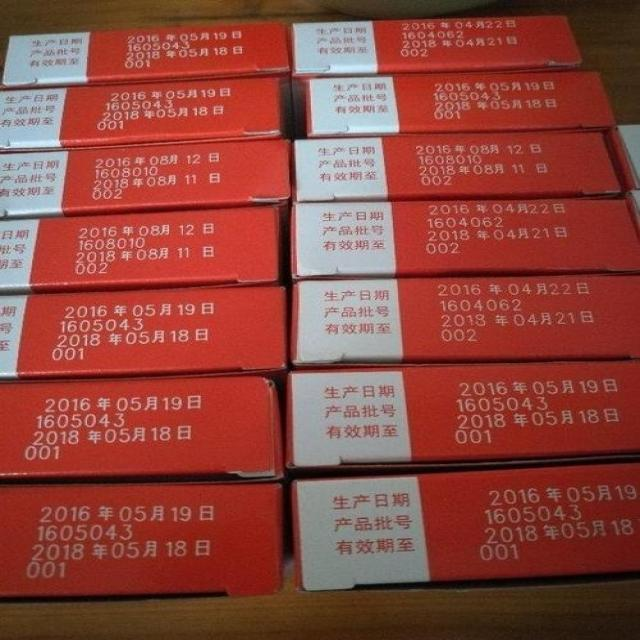box: (289, 462, 640, 592), (284, 359, 640, 469), (291, 13, 581, 137), (0, 484, 284, 605), (291, 272, 640, 365), (0, 376, 284, 480), (292, 195, 640, 277), (0, 286, 287, 379), (0, 205, 278, 293), (293, 128, 626, 201), (0, 138, 289, 220), (0, 73, 283, 153), (303, 70, 617, 138)
